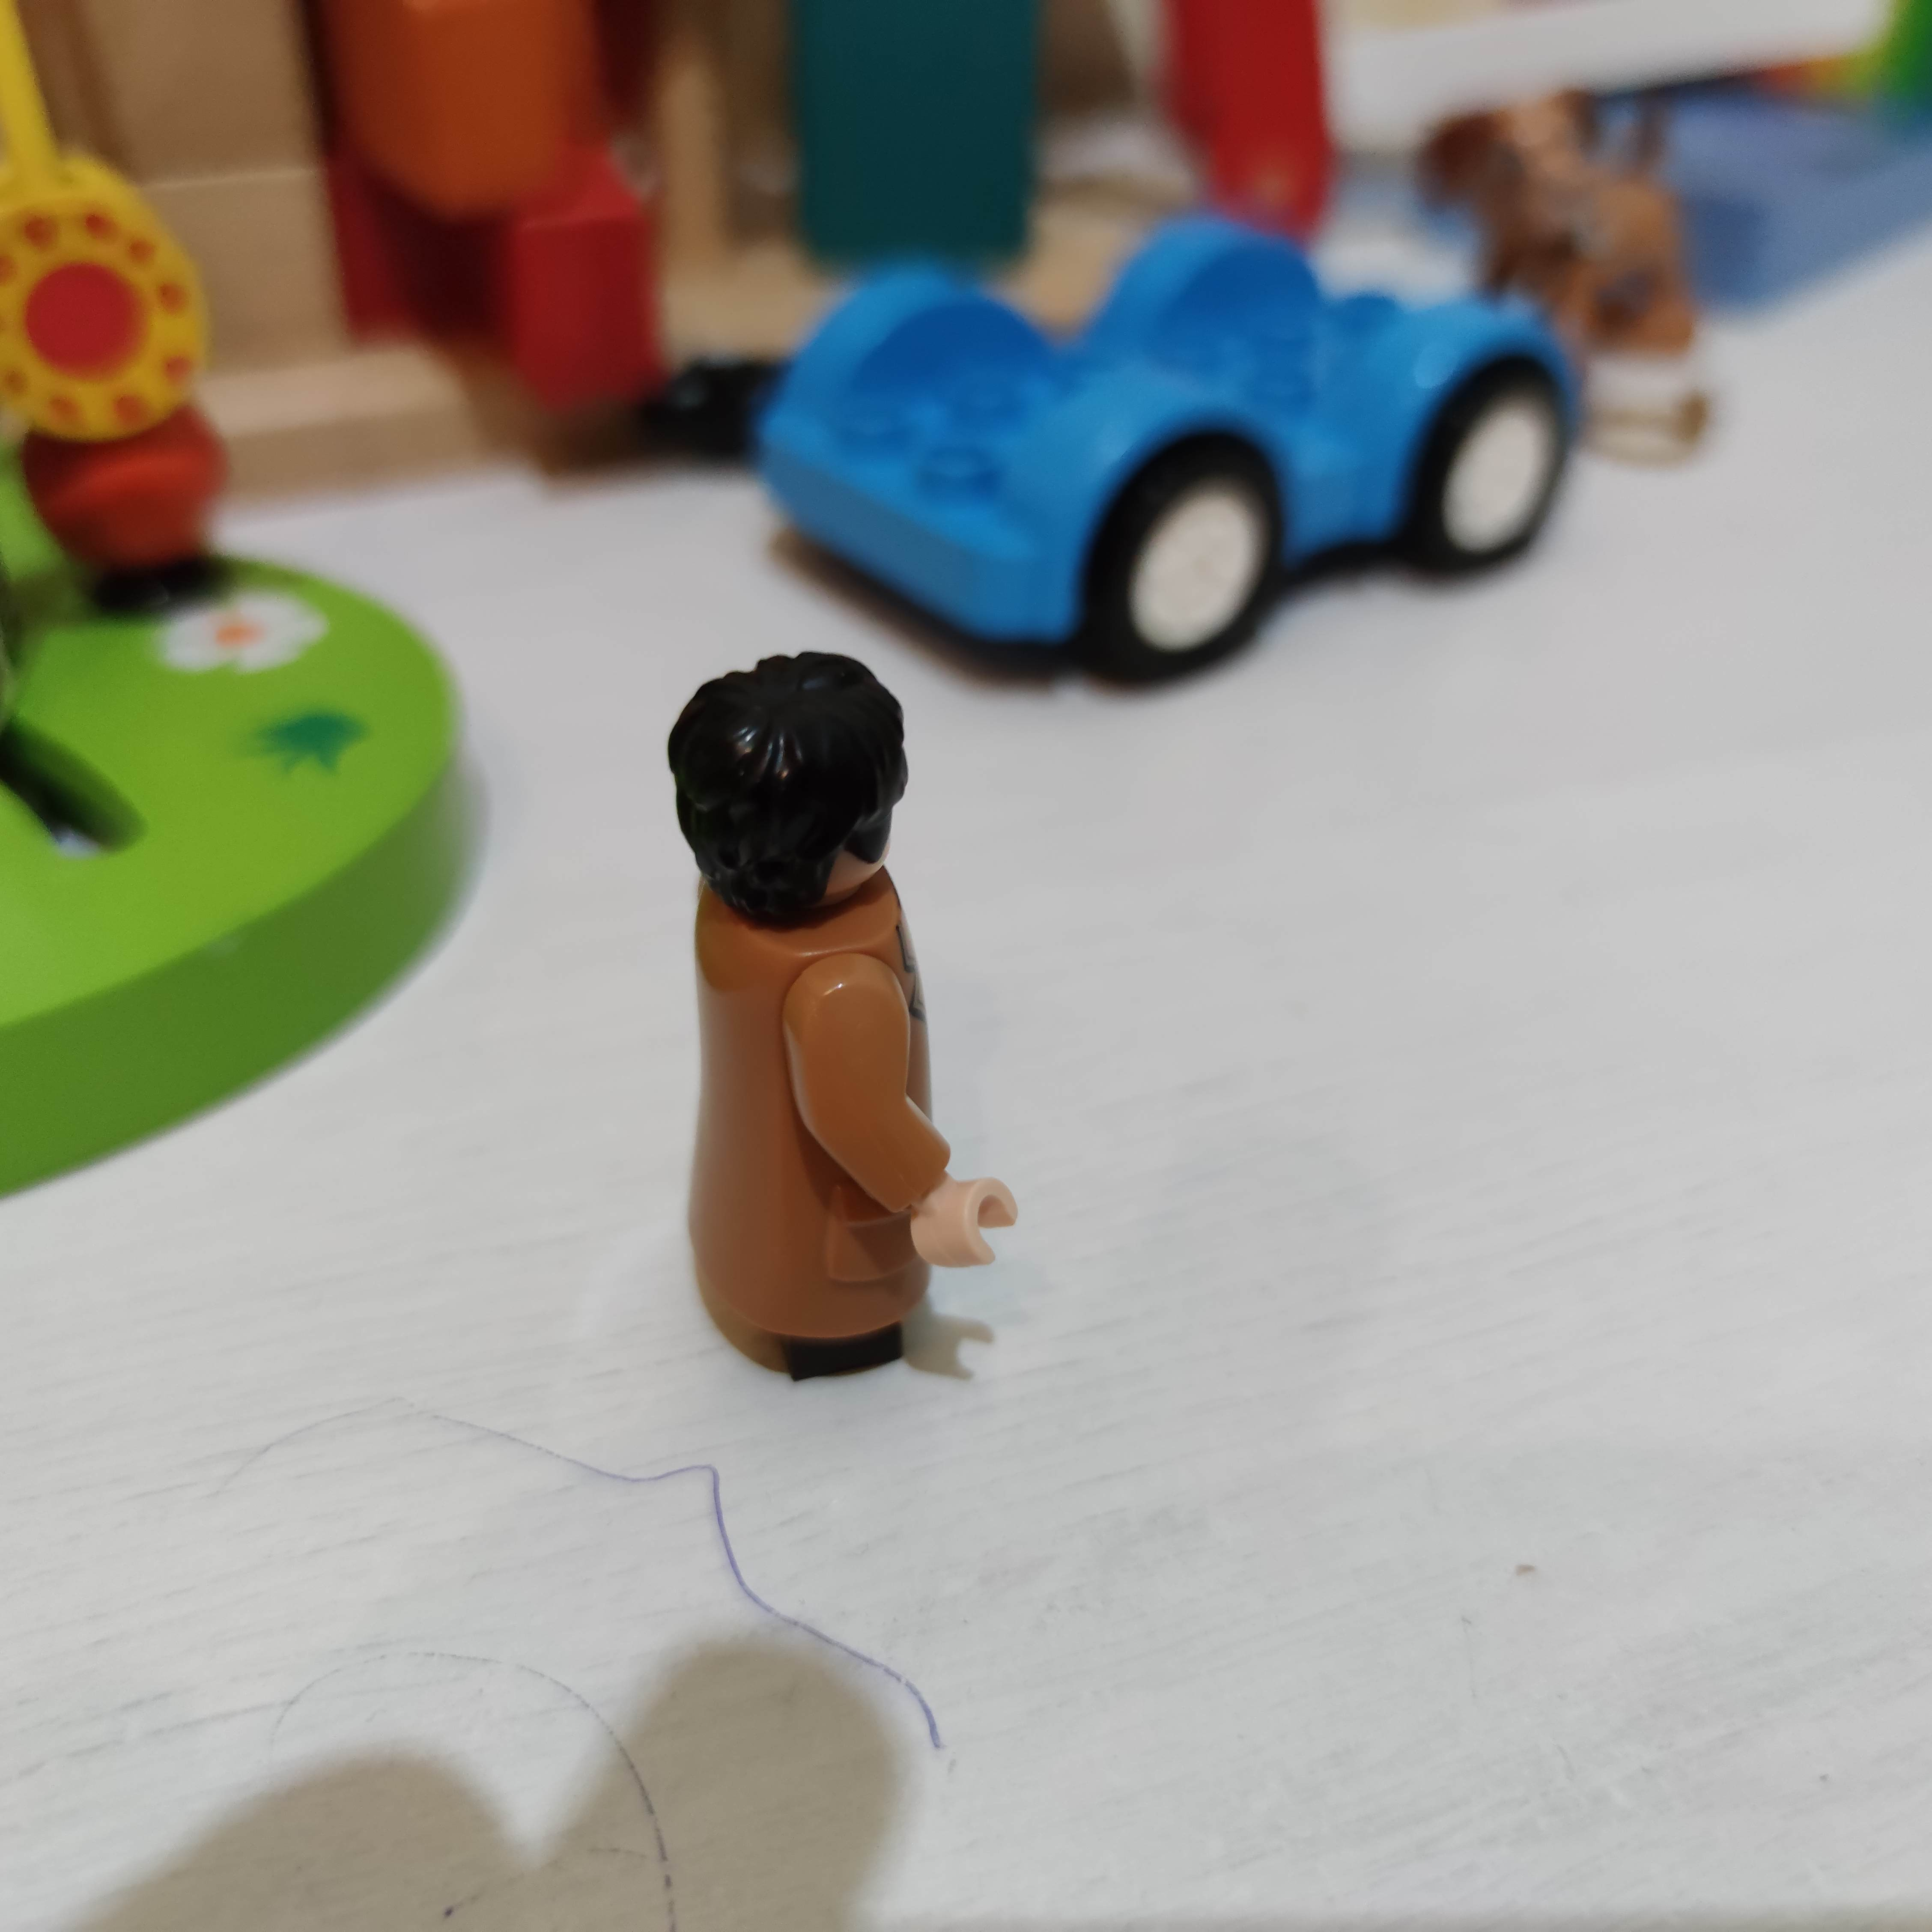lego: (663, 649, 1024, 1391)
